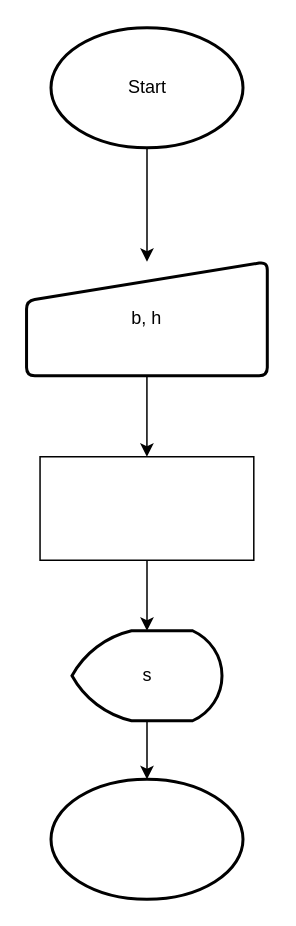
This 296x926 diagram has some shape labels left out. Each missing label, with the centre of its shape:
End: point 146,838
s <- (b * h) / 2: point 146,507
